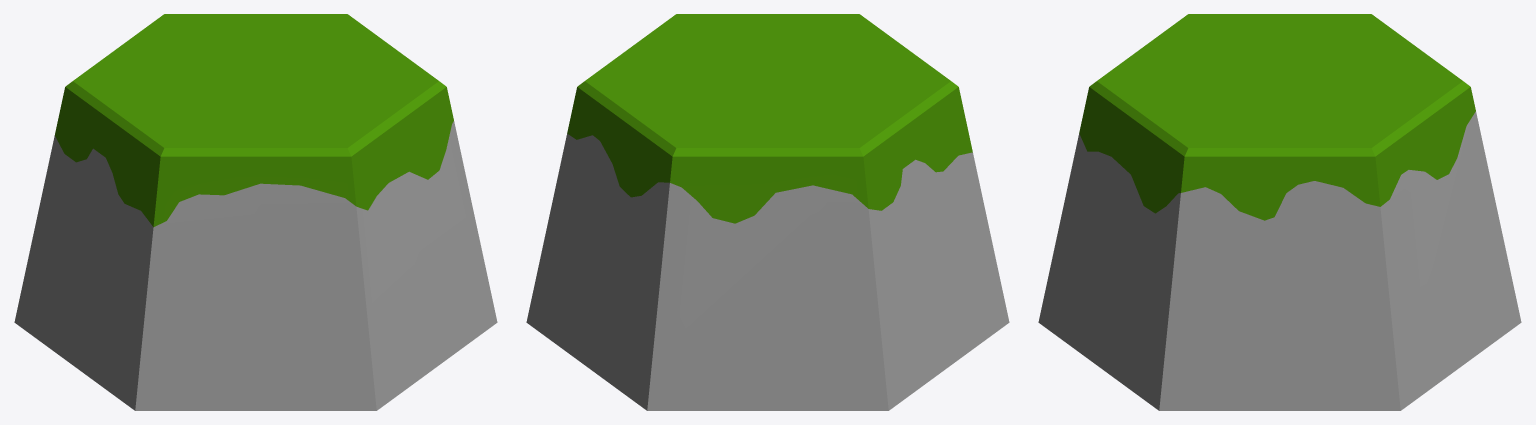
Rendered from RPG_Tiles_Hex_Rock_Moss_Large_03.FBX.
3 renders of one model, left to right at view 1: azimuth 30°, elevation 25°; view 2: azimuth 150°, elevation 25°; view 3: azimuth 270°, elevation 25°, orthographic.
Visible parts, largest first — view 1: RPG_Tiles_Hex_Rock_Moss_Large_03; view 2: RPG_Tiles_Hex_Rock_Moss_Large_03; view 3: RPG_Tiles_Hex_Rock_Moss_Large_03.
Boxes of the visible parts, x1,y1,x2,y2 form: RPG_Tiles_Hex_Rock_Moss_Large_03: (14, 14, 497, 410); RPG_Tiles_Hex_Rock_Moss_Large_03: (526, 14, 1009, 410); RPG_Tiles_Hex_Rock_Moss_Large_03: (1038, 14, 1521, 410).
Size of the model in its own units: 2346 by 1495 by 2709.
